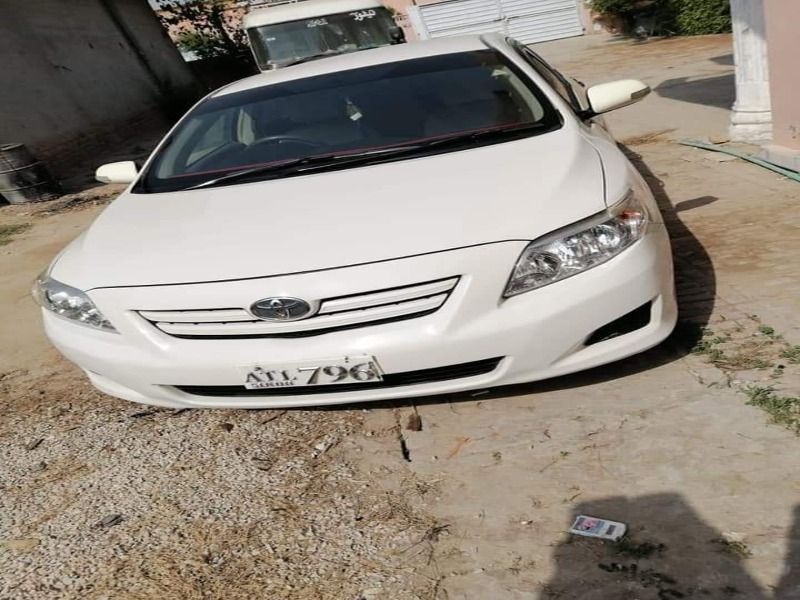License Plate: (239, 355, 385, 394)
